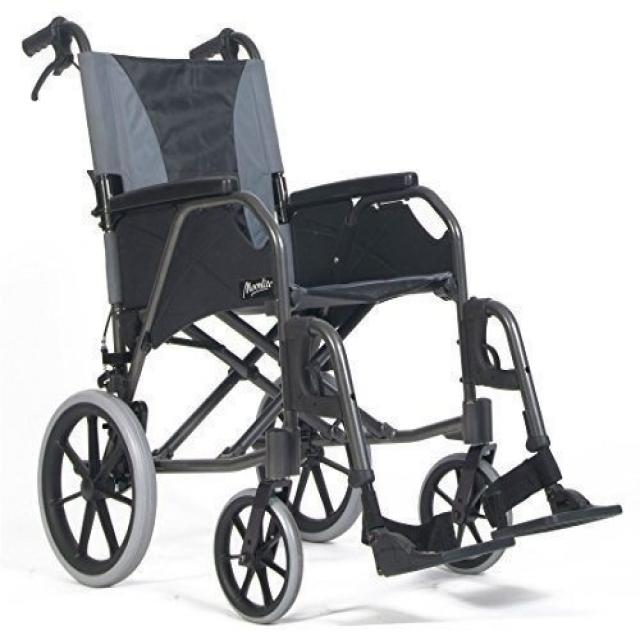wheelchair: (15, 11, 631, 636)
